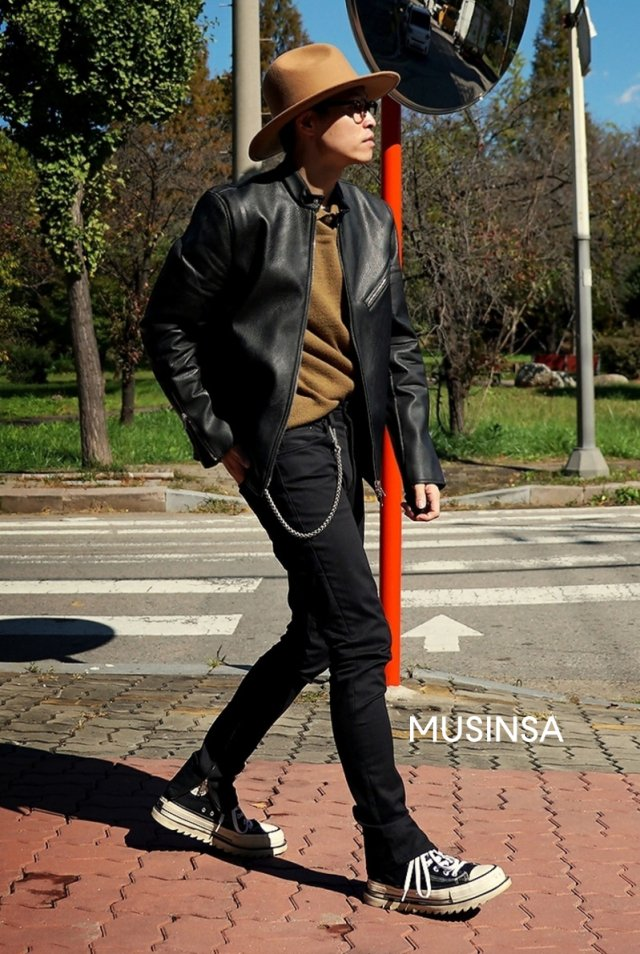Glasses: (313, 96, 382, 126)
Hat: (240, 39, 398, 160)
Jacket: (140, 170, 448, 470)
Pants: (206, 428, 446, 851)
Shoes: (149, 783, 519, 920)
